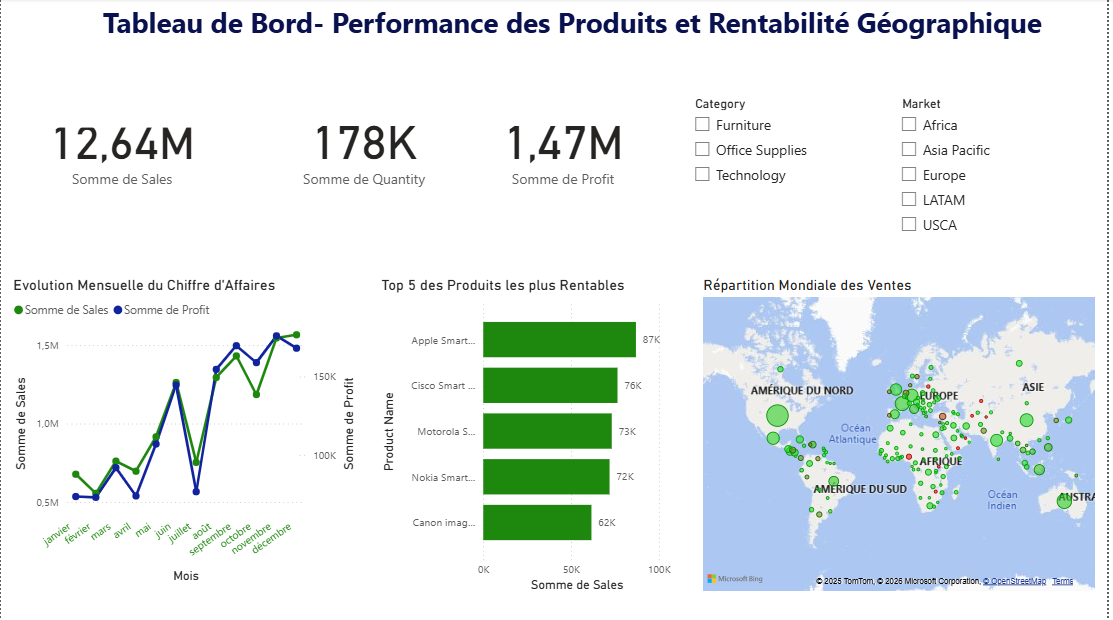

What the dashboard file says about the page in this screenshot:
{"tool":"powerbi","page":{"name":"Page 1","canvas":[1280,720],"ordinal":0},"visuals":[{"type":"card","fields":{"Values":["Sum(Orders.Sales)"]},"box":[0,108.8,280.1,123.9],"z":0},{"type":"card","fields":{"Values":["Sum(Orders.Profit)"]},"box":[510.5,108.8,280.1,123.9],"z":1000},{"type":"card","fields":{"Values":["Sum(Orders.Quantity)"]},"box":[280.1,108.8,280.1,123.9],"z":2000},{"type":"lineChart","title":"Evolution Mensuelle du Chiffre d''Affaires","fields":{"Category":["Orders.Order Date.Variation.Hiérarchie de dates.Année","Orders.Order Date.Variation.Hiérarchie de dates.Trimestre","Orders.Order Date.Variation.Hiérarchie de dates.Mois","Orders.Order Date.Variation.Hiérarchie de dates.Jour"],"Y":["Sum(Orders.Sales)"],"Y2":["Sum(Orders.Profit)"]},"box":[9.3,321.8,405.1,360],"z":3000},{"type":"slicer","fields":{"Values":["Orders.Category"]},"box":[790.6,108.8,207.2,156.3],"z":4000},{"type":"map","title":"Répartition Mondiale des Ventes","fields":{"Category":["Orders.Country"],"Size":["Sum(Orders.Sales)"]},"box":[807.8,322.2,463.3,370],"z":5000},{"type":"clusteredBarChart","title":"Top 5 des Produits les plus Rentables","fields":{"Category":["Orders.Product Name"],"Y":["Sum(Orders.Sales)"]},"box":[435.2,321.8,355.4,370.4],"z":6000},{"type":"slicer","fields":{"Values":["Orders.Market"]},"box":[1030.2,108.8,229.2,172.5],"z":7000},{"type":"textbox","box":[0,0,280,150],"z":8000},{"type":"textbox","box":[0,0,1209.6,75.2],"z":9000}]}

Visuals, with their boxes in screenshot pixels (x1, y1, x2, y2), scaled from the page's 1280x720 canvas onto the 1113x620 screenshot:
card - Sum(Orders.Sales): (x1=0, y1=94, x2=244, y2=200)
card - Sum(Orders.Profit): (x1=444, y1=94, x2=687, y2=200)
card - Sum(Orders.Quantity): (x1=244, y1=94, x2=487, y2=200)
"Evolution Mensuelle du Chiffre d''Affaires" lineChart: (x1=8, y1=277, x2=360, y2=587)
slicer - Orders.Category: (x1=687, y1=94, x2=868, y2=228)
"Répartition Mondiale des Ventes" map: (x1=702, y1=277, x2=1105, y2=596)
"Top 5 des Produits les plus Rentables" clusteredBarChart: (x1=378, y1=277, x2=687, y2=596)
slicer - Orders.Market: (x1=896, y1=94, x2=1095, y2=242)
textbox: (x1=0, y1=0, x2=243, y2=129)
textbox: (x1=0, y1=0, x2=1052, y2=65)
